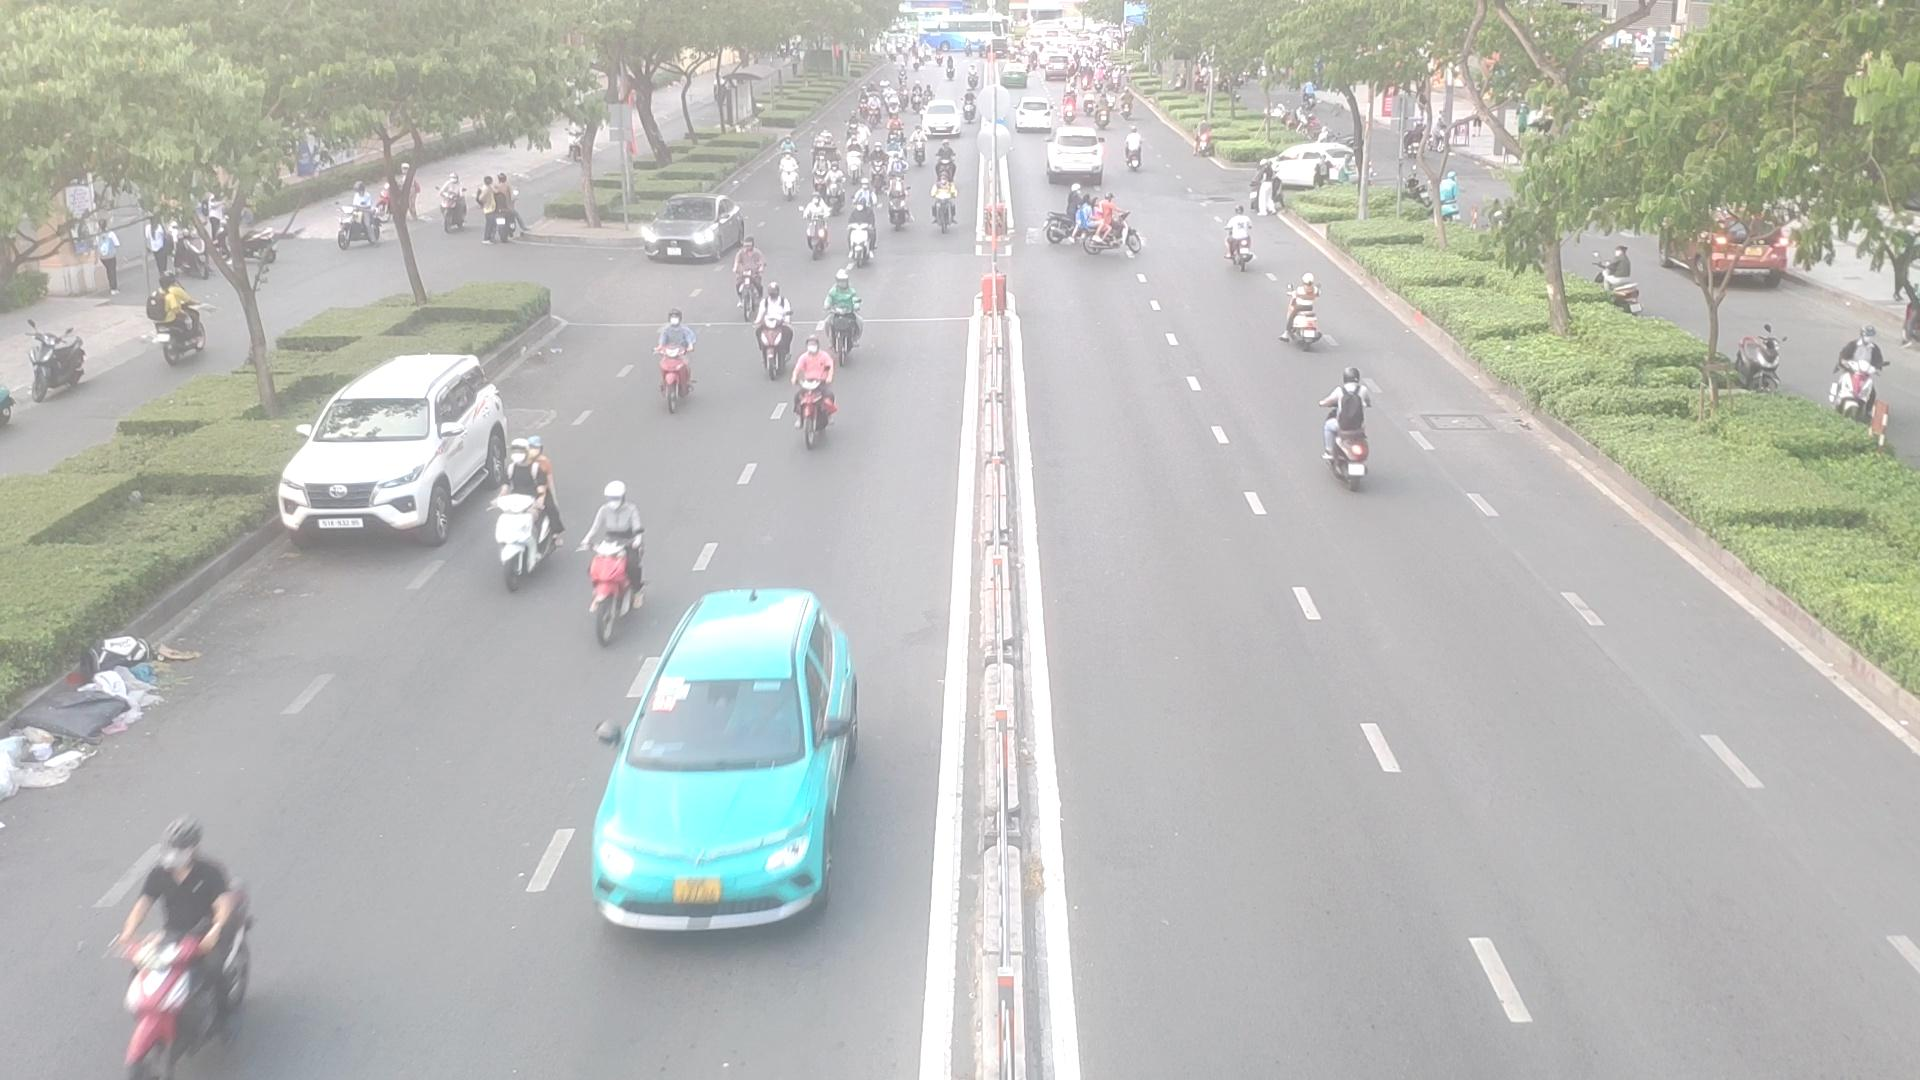car: (585, 591, 857, 928), (272, 352, 512, 541), (638, 198, 749, 266), (1254, 140, 1356, 195), (1038, 125, 1106, 183)
motorbike: (109, 832, 251, 1080), (484, 429, 553, 582), (583, 475, 645, 628), (1323, 365, 1391, 489), (651, 303, 708, 417), (1069, 198, 1153, 264), (799, 334, 843, 443), (1287, 258, 1325, 357), (816, 266, 862, 340), (756, 278, 793, 369), (731, 243, 766, 319), (806, 194, 831, 266), (885, 171, 915, 223), (1229, 206, 1251, 273), (934, 179, 957, 236), (1120, 128, 1149, 174), (938, 141, 957, 189), (851, 204, 866, 260), (869, 145, 885, 189), (913, 127, 928, 165), (781, 150, 795, 189), (847, 141, 858, 178), (891, 133, 903, 170), (829, 166, 840, 207), (812, 154, 824, 185)
